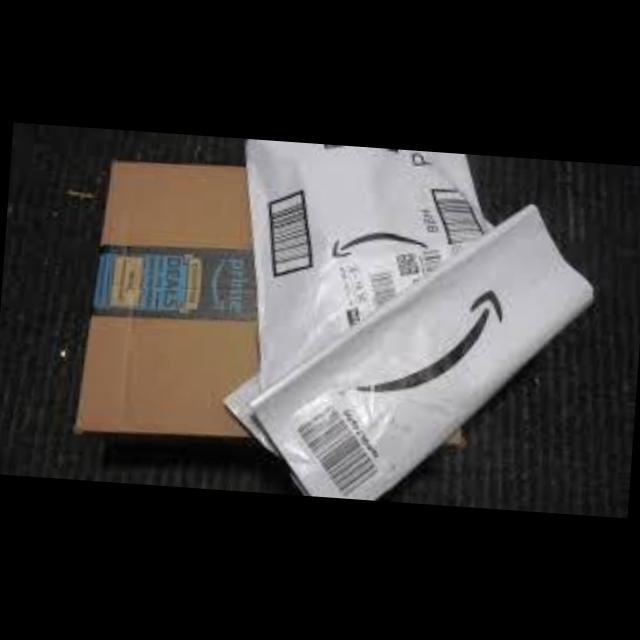box: (74, 155, 310, 461)
mailer: (228, 138, 501, 428)
